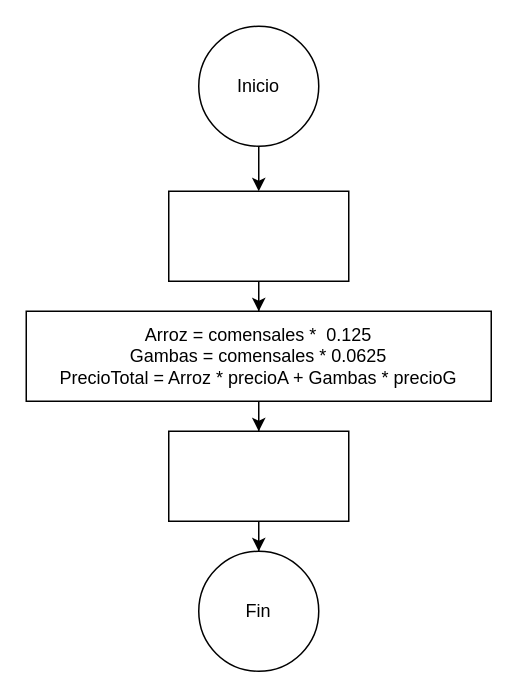
Image size: 518x698. Some labels were removed from this diagram. The centre of each missing label's shape, as x and y in pixels:
"Arroz, Gambas, PrecioTotal" goes at point (258, 475).
"Leer comensales, precioA, precioG" goes at point (258, 235).
